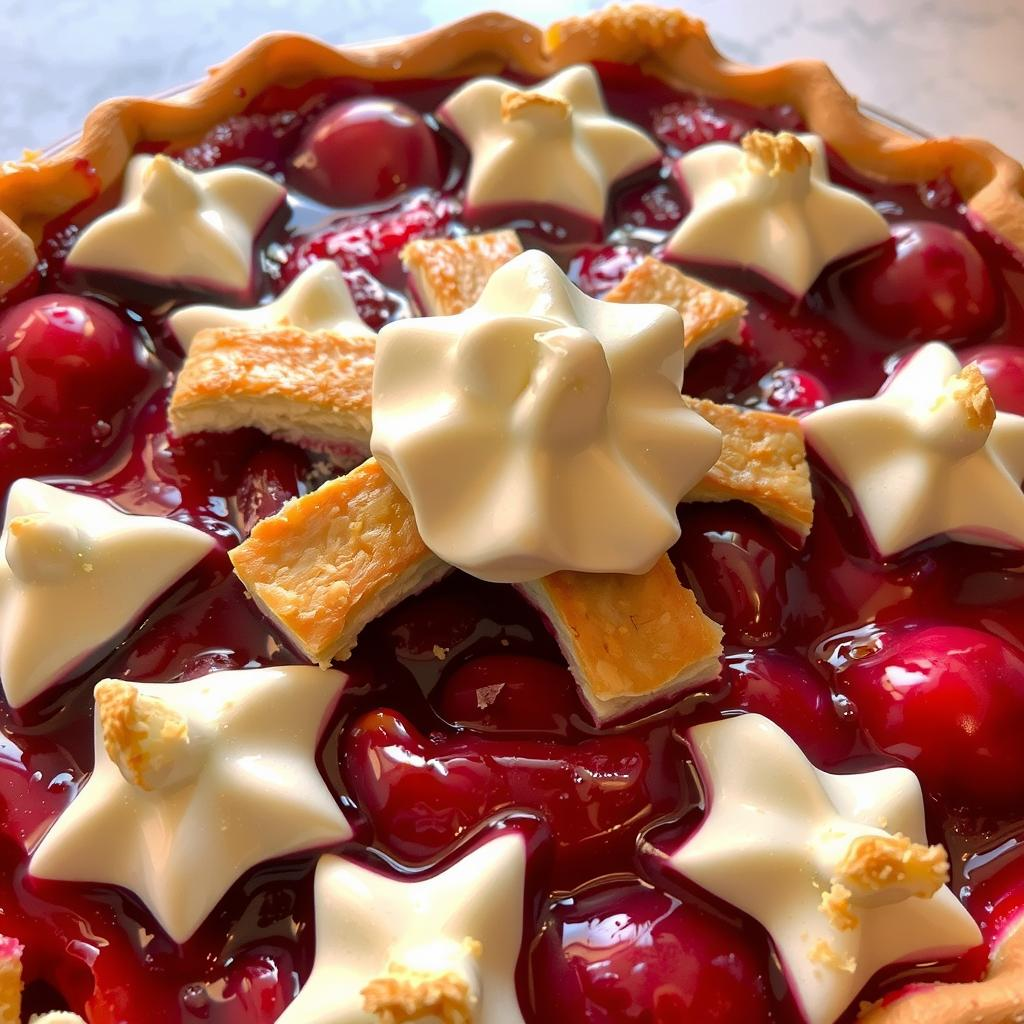pie: (0, 4, 1024, 1024)
